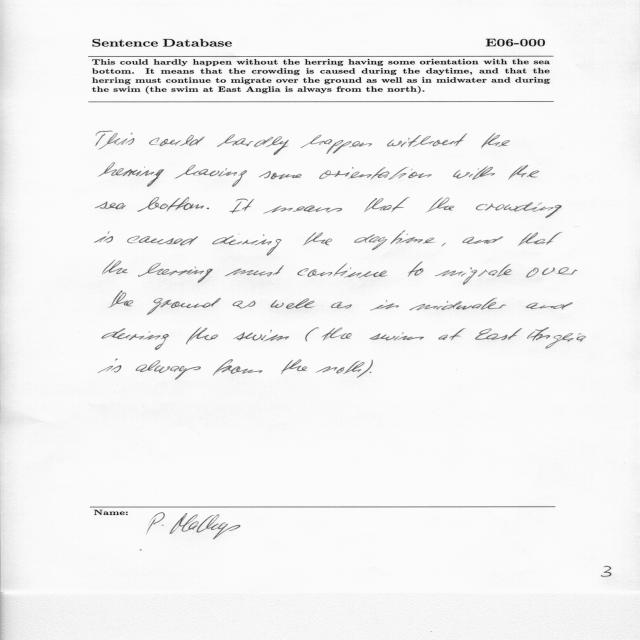word: (435, 264, 512, 285), (174, 165, 247, 187), (99, 163, 164, 187), (212, 234, 282, 256), (354, 231, 434, 250), (217, 134, 289, 155), (138, 263, 213, 283), (102, 328, 169, 350), (319, 167, 432, 180), (476, 202, 562, 218), (297, 263, 387, 278), (301, 135, 372, 154), (135, 360, 201, 380), (527, 327, 586, 349), (410, 298, 507, 311), (147, 298, 221, 315), (387, 133, 467, 147), (137, 197, 204, 212), (213, 359, 263, 376), (127, 236, 198, 246), (225, 265, 284, 277), (96, 131, 134, 149), (365, 197, 410, 212), (263, 206, 342, 214), (234, 330, 290, 341), (149, 135, 204, 146), (453, 166, 495, 180), (518, 232, 562, 245), (526, 267, 578, 278), (475, 328, 522, 340), (186, 328, 218, 345), (343, 360, 373, 378), (370, 332, 424, 341), (271, 298, 315, 309), (481, 133, 510, 149), (509, 165, 540, 179), (322, 327, 352, 341), (428, 197, 455, 212), (281, 360, 307, 375), (304, 233, 333, 246), (526, 302, 573, 310), (229, 199, 254, 214), (111, 291, 133, 307), (103, 260, 128, 274), (259, 171, 302, 179), (463, 236, 504, 244), (439, 328, 466, 340), (98, 359, 121, 373), (370, 300, 399, 310), (95, 202, 126, 210), (408, 262, 424, 277), (94, 231, 113, 243), (305, 327, 319, 342), (316, 367, 345, 374), (233, 301, 255, 309), (331, 302, 352, 309), (442, 243, 446, 246), (207, 208, 209, 210), (370, 372, 372, 373)
